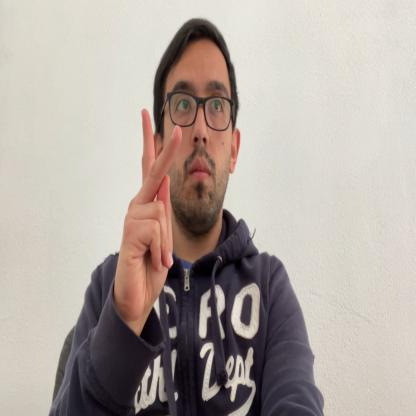P: (116, 106, 182, 329)
